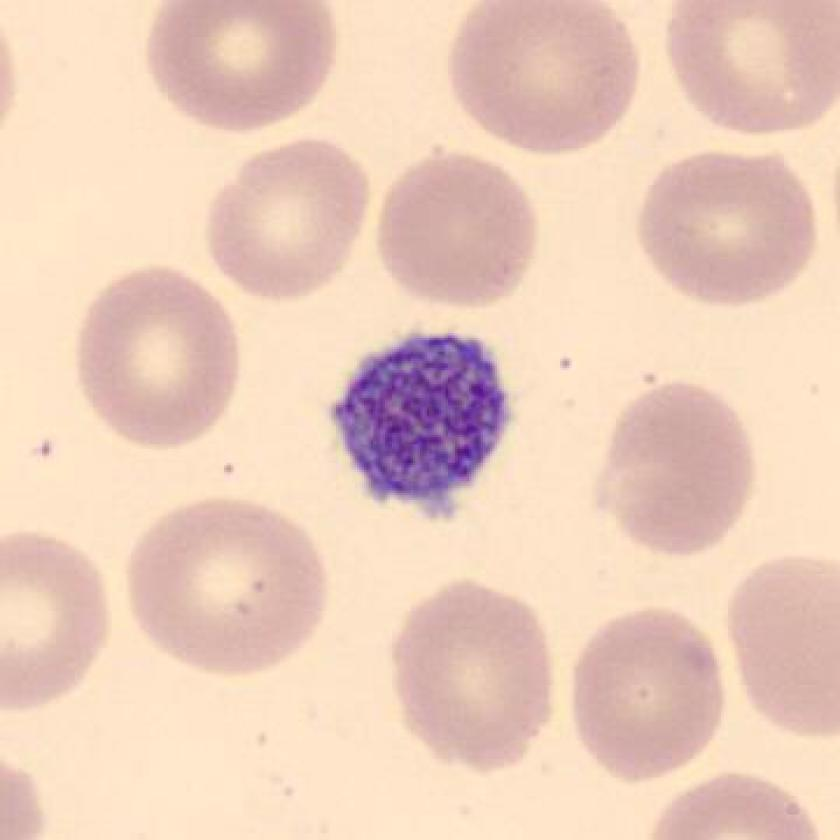platelets: (323, 323, 519, 533)
